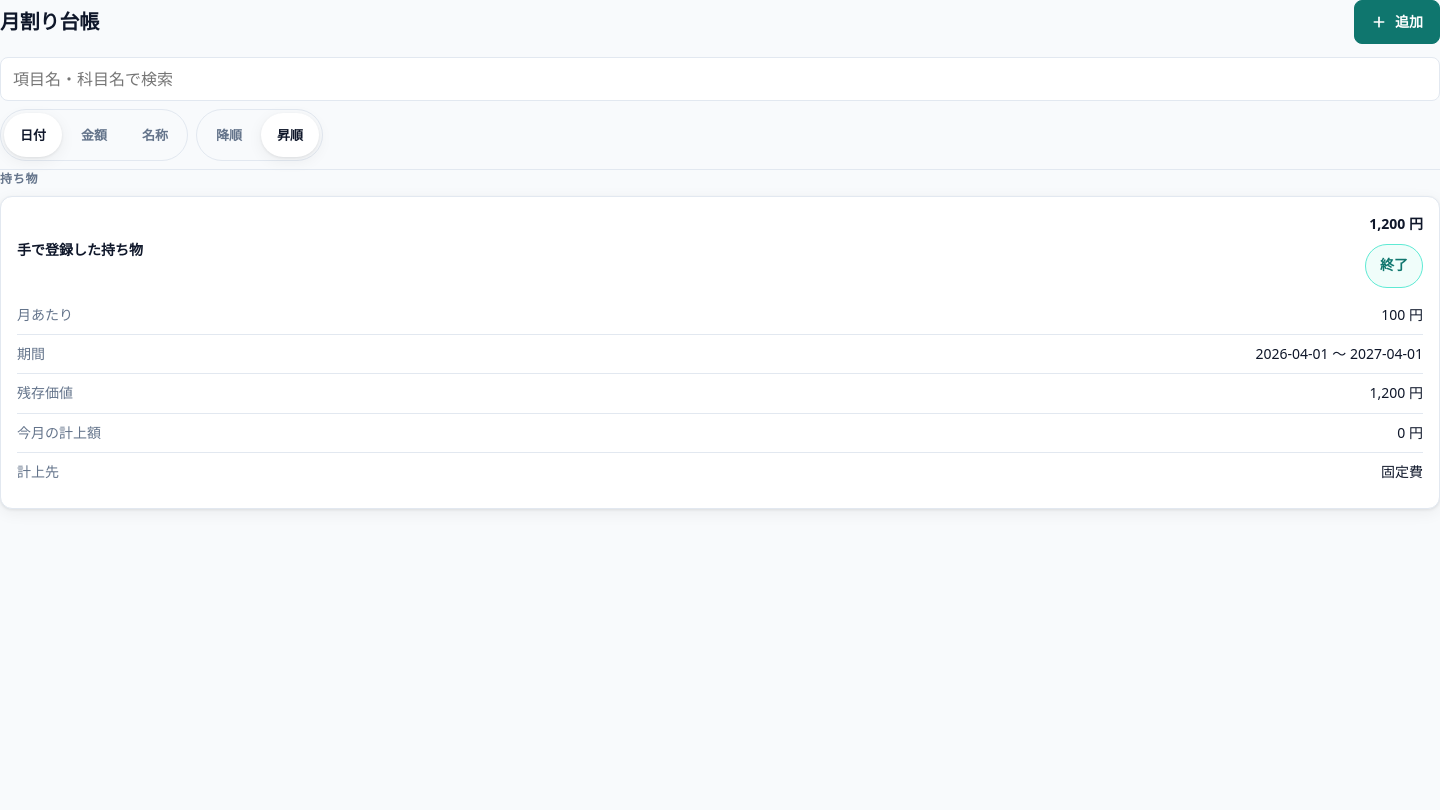
Test: 継続コスト item の削除確認 › 手動で登録した継続コスト資産は編集シート最下部から削除確認へ（行アクションには出ない）
Click the button with aria-label "編集: 手で登録した持ち物": (58, 209) [0,196,1439,508]
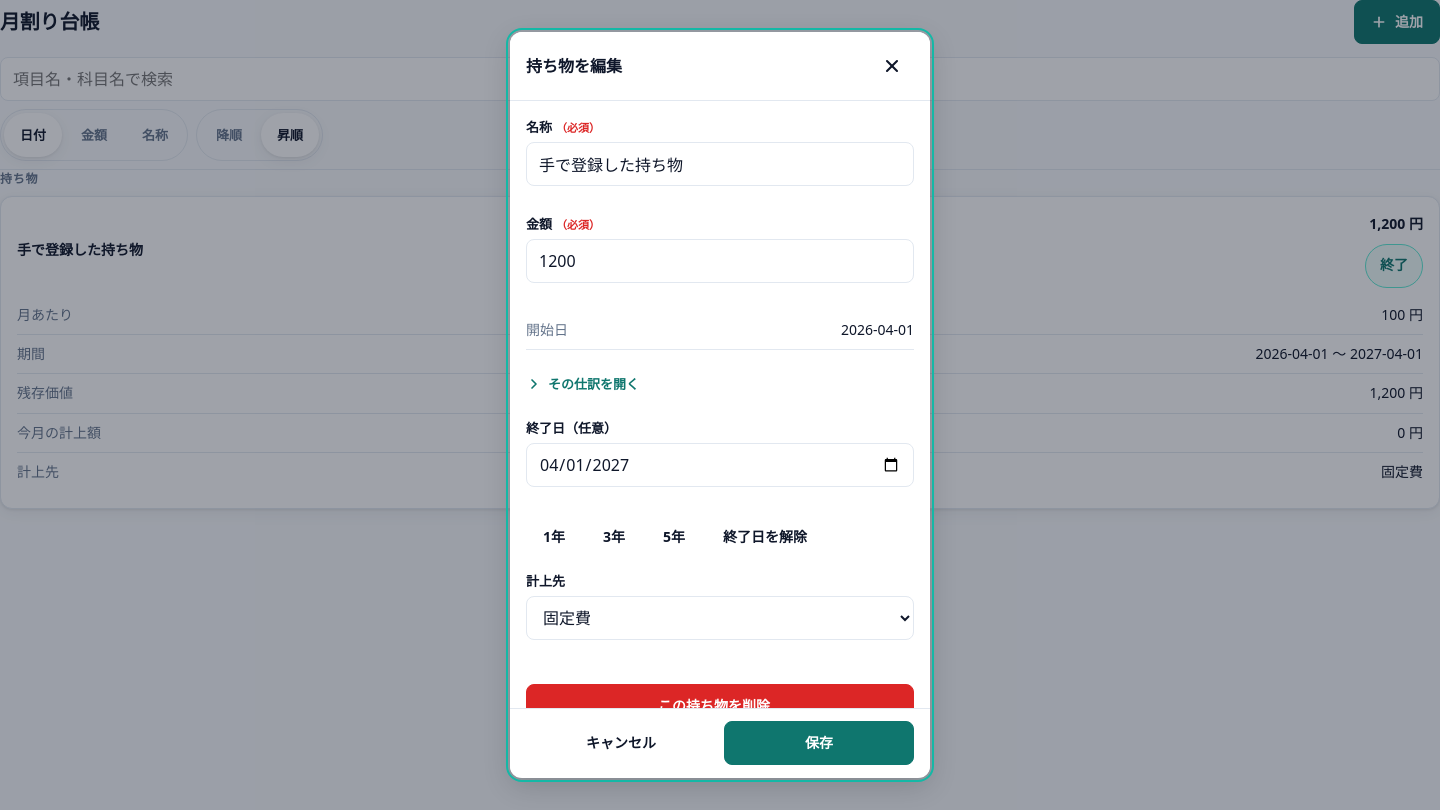
Click the button "この持ち物を削除…": (720, 706) [526,684,914,728]
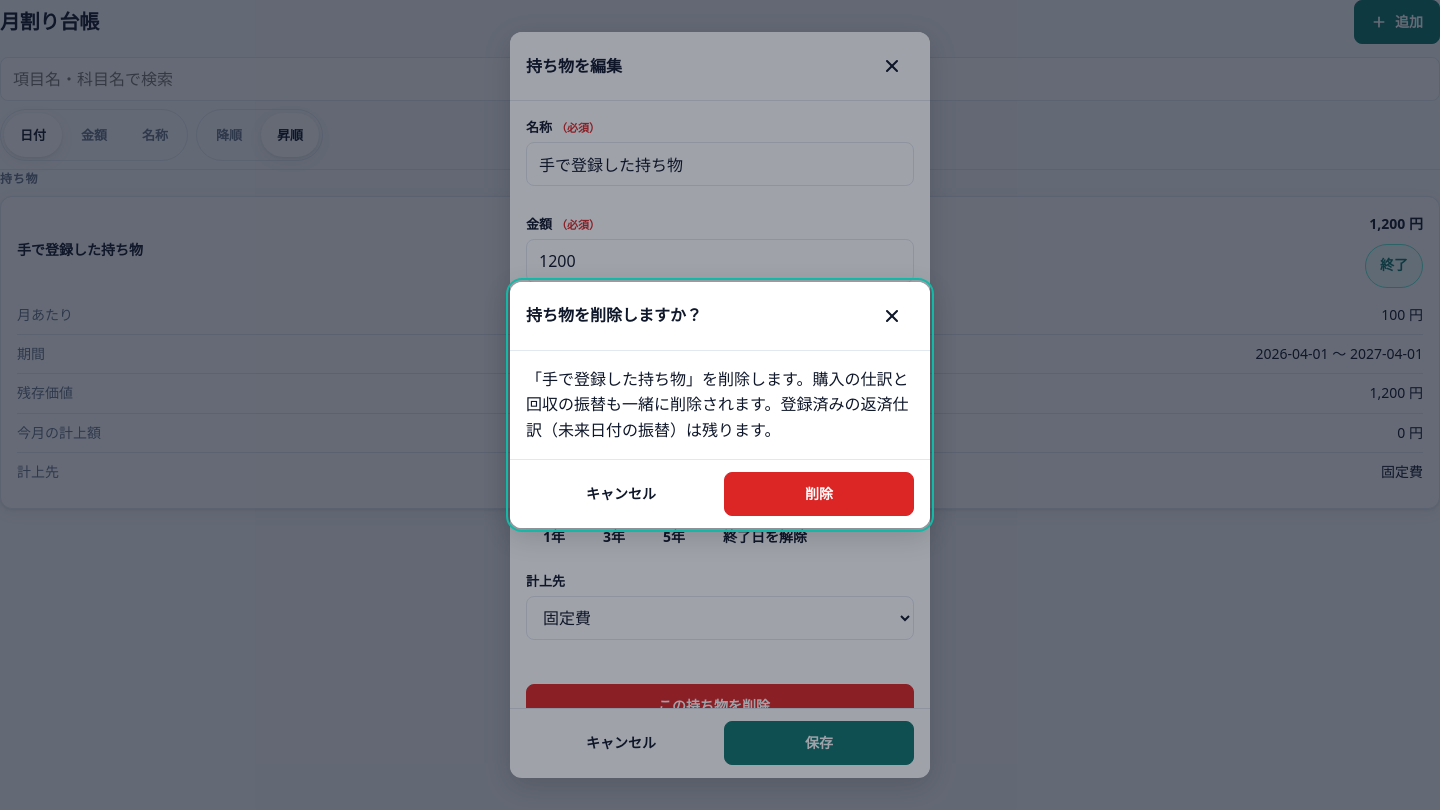
Check: the heading "持ち物を削除しますか？" is shown, box [526,303,702,328]
